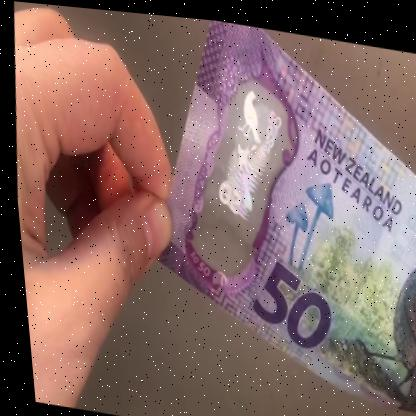50B: (197, 74, 295, 271)
